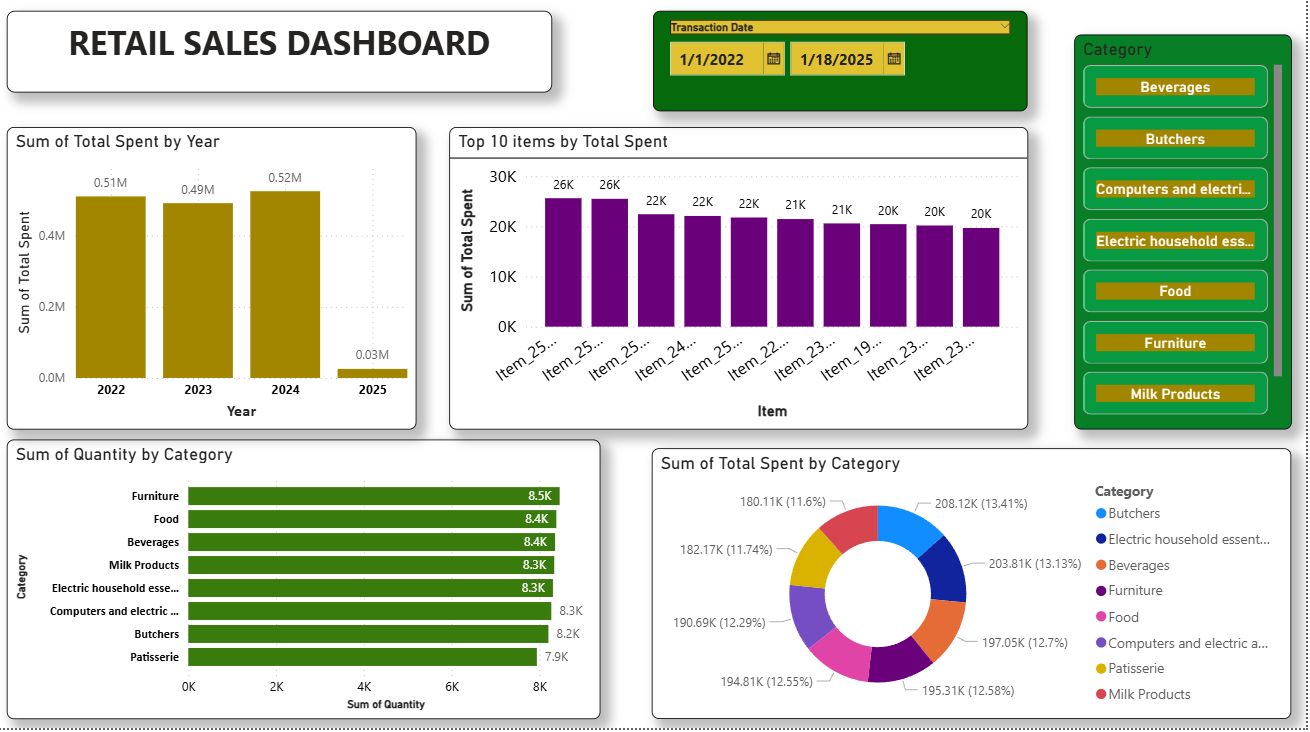

Layout of this report page (visuals, bound fields, positions):
{"tool":"powerbi","page":{"name":"Retail Sales dashboard","canvas":[1280,720],"ordinal":0},"visuals":[{"type":"barChart","fields":{"Category":["retail_sales_cleaned.Category"],"Y":["Sum(retail_sales_cleaned.Quantity)"]},"box":[8.6,437.8,580.8,273.9],"z":0},{"type":"columnChart","fields":{"Category":["retail_sales_cleaned.Transaction Date.Variation.Date Hierarchy.Year","retail_sales_cleaned.Transaction Date.Variation.Date Hierarchy.Quarter","retail_sales_cleaned.Transaction Date.Variation.Date Hierarchy.Month","retail_sales_cleaned.Transaction Date.Variation.Date Hierarchy.Day"],"Y":["Sum(retail_sales_cleaned.Total Spent)"]},"box":[8.6,132.1,401.1,295.9],"z":1000},{"type":"donutChart","fields":{"Category":["retail_sales_cleaned.Category"],"Y":["Sum(retail_sales_cleaned.Total Spent)"]},"box":[639.5,446,625.7,264.8],"z":2000},{"type":"advancedSlicerVisual","fields":{"Values":["retail_sales_cleaned.Category"]},"box":[1052.9,41.6,212.8,386.4],"z":3000},{"type":"clusteredColumnChart","title":"Top 10 items by Total Spent ","fields":{"Category":["retail_sales_cleaned.Item"],"Y":["Sum(retail_sales_cleaned.Total Spent)"]},"box":[441.4,132.1,566.2,295.9],"z":4000},{"type":"textbox","box":[8,18.7,533.3,80],"z":5000},{"type":"slicer","fields":{"Values":["retail_sales_cleaned.Transaction Date"]},"box":[641.3,18.7,366.7,98.7],"z":6000}]}

Visuals, with their boxes in screenshot pixels (x1, y1, x2, y2), scaled from the page's 1280x720 canvas onto the 1310x732 screenshot:
barChart - retail_sales_cleaned.Category x Sum(retail_sales_cleaned.Quantity): bbox=(9, 445, 603, 724)
columnChart - retail_sales_cleaned.Transaction Date.Variation.Date Hierarchy.Year x retail_sales_cleaned.Transaction Date.Variation.Date Hierarchy.Quarter: bbox=(9, 134, 419, 435)
donutChart - retail_sales_cleaned.Category x Sum(retail_sales_cleaned.Total Spent): bbox=(654, 453, 1295, 723)
advancedSlicerVisual - retail_sales_cleaned.Category: bbox=(1078, 42, 1295, 435)
"Top 10 items by Total Spent " clusteredColumnChart: bbox=(452, 134, 1031, 435)
textbox: bbox=(8, 19, 554, 100)
slicer - retail_sales_cleaned.Transaction Date: bbox=(656, 19, 1032, 119)
